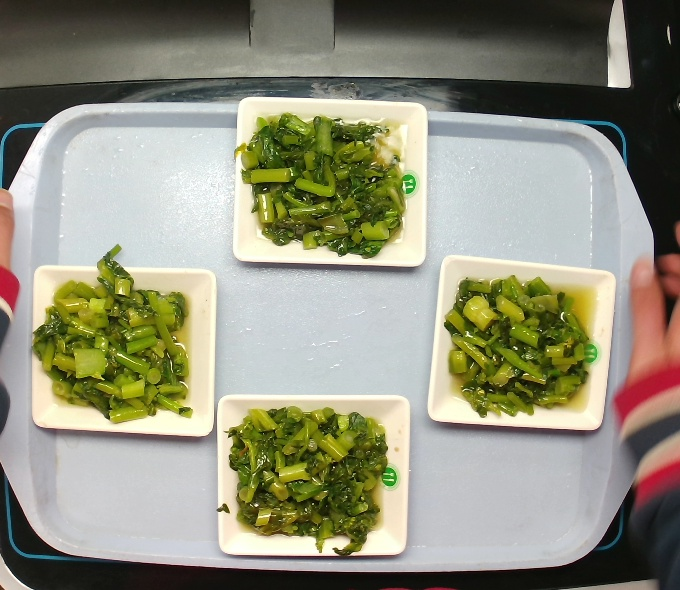wcq-YouCaiHua: (236, 106, 417, 264), (35, 252, 199, 422), (217, 404, 400, 554), (450, 268, 591, 415)
